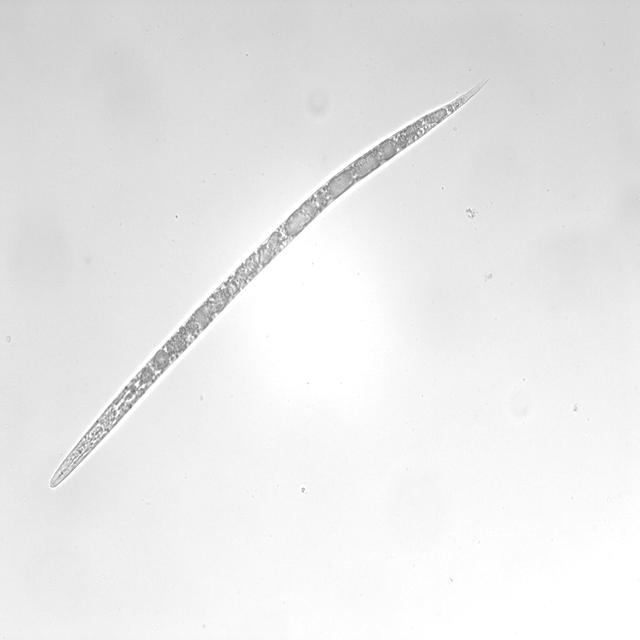Meloidogyne: (37, 62, 498, 494)
